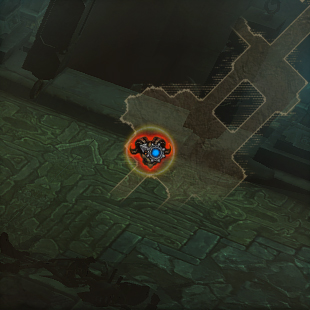Guardian: (124, 135, 174, 168)
